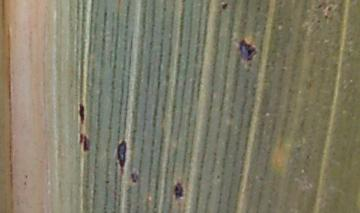tarspot: (238, 39, 258, 62), (117, 139, 127, 173), (78, 132, 92, 152), (77, 103, 86, 124), (174, 181, 183, 199), (130, 173, 140, 182), (221, 1, 228, 11), (327, 4, 333, 12), (104, 179, 111, 185), (316, 18, 322, 25), (324, 13, 329, 20), (318, 3, 323, 9)
